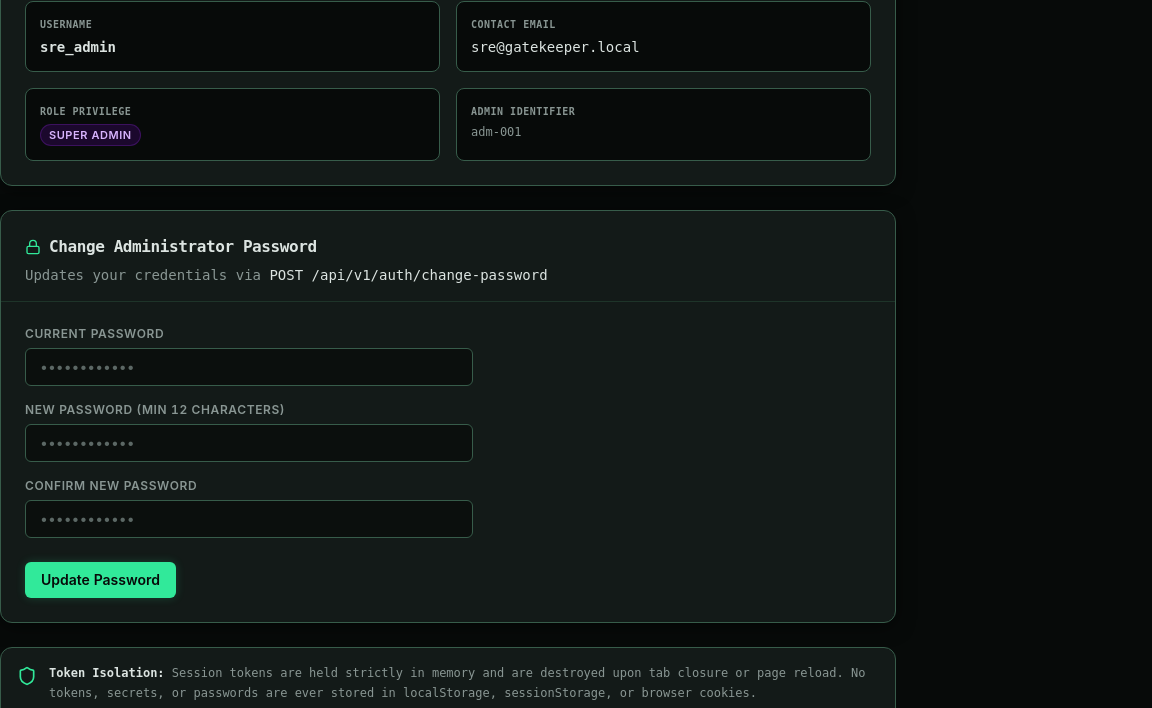
Scenario: Security Page Component › validates password length and matching confirmation
(page scrolled)
// Empty fields
Click the button "Update Password".
click(100, 580)  # box [25,562,176,598]
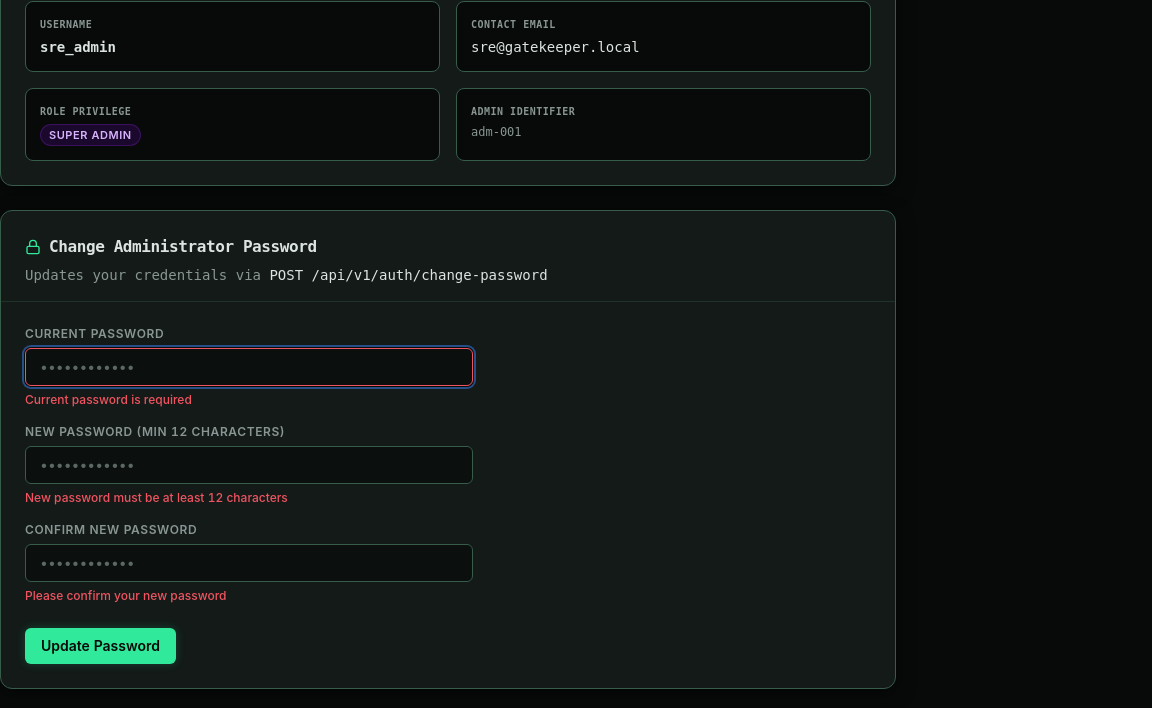
Now the text "Current password is required" is shown, box [25,392,192,407]
Type "OldPassword123!" into the password field labelled "Current Password".
click(249, 367); type("OldPassword123!")  # box [25,348,473,386]
Type "short" into the password field labelled "New Password (min 12 characters)".
click(249, 465); type("short")  # box [25,446,473,484]
Type "short" into the password field labelled "Confirm New Password".
click(249, 563); type("short")  # box [25,544,473,582]
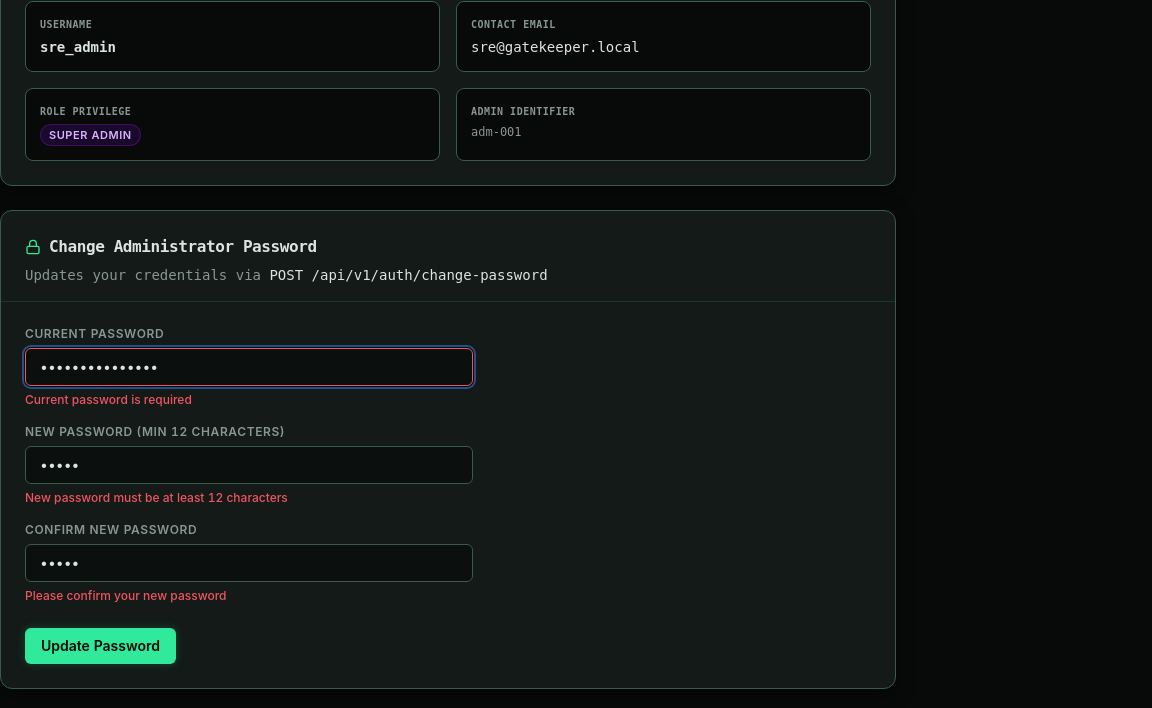
Click the button "Update Password".
click(100, 646)  # box [25,628,176,664]
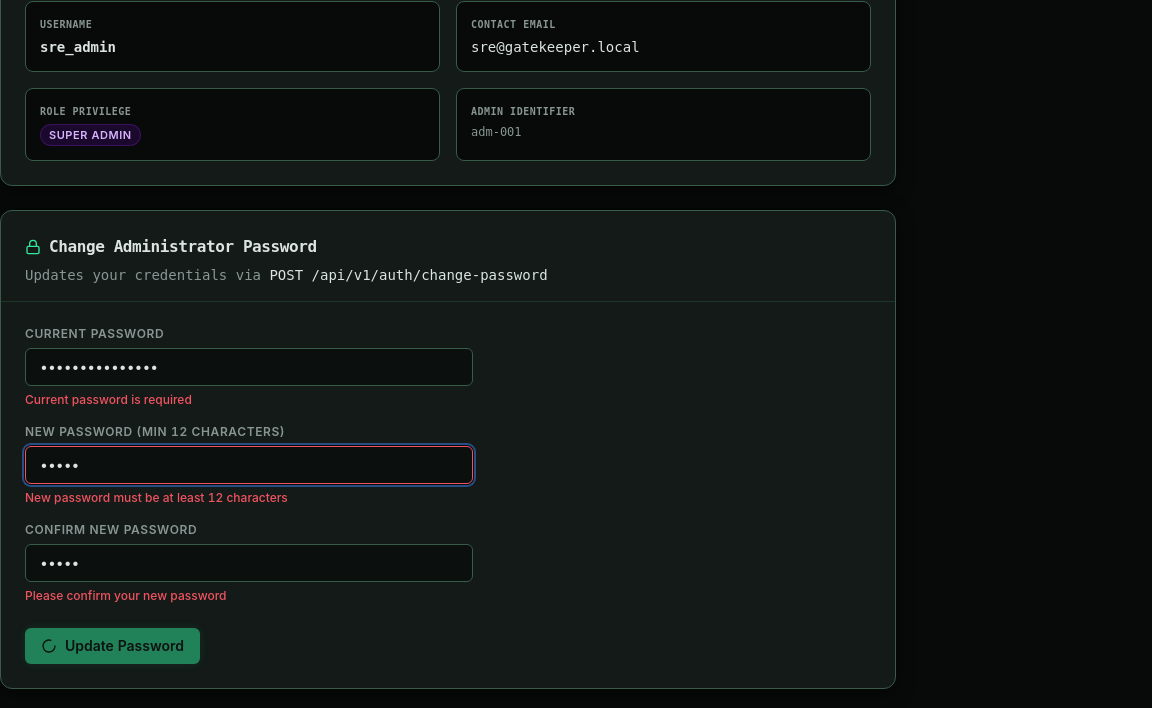
Now the text "New password must be at least 12 characters" is shown, box [25,490,288,505]
// Password mismatch
Type "ValidPassword123!" into the password field labelled "New Password (min 12 characters)".
click(249, 465); type("ValidPassword123!")  # box [25,446,473,484]
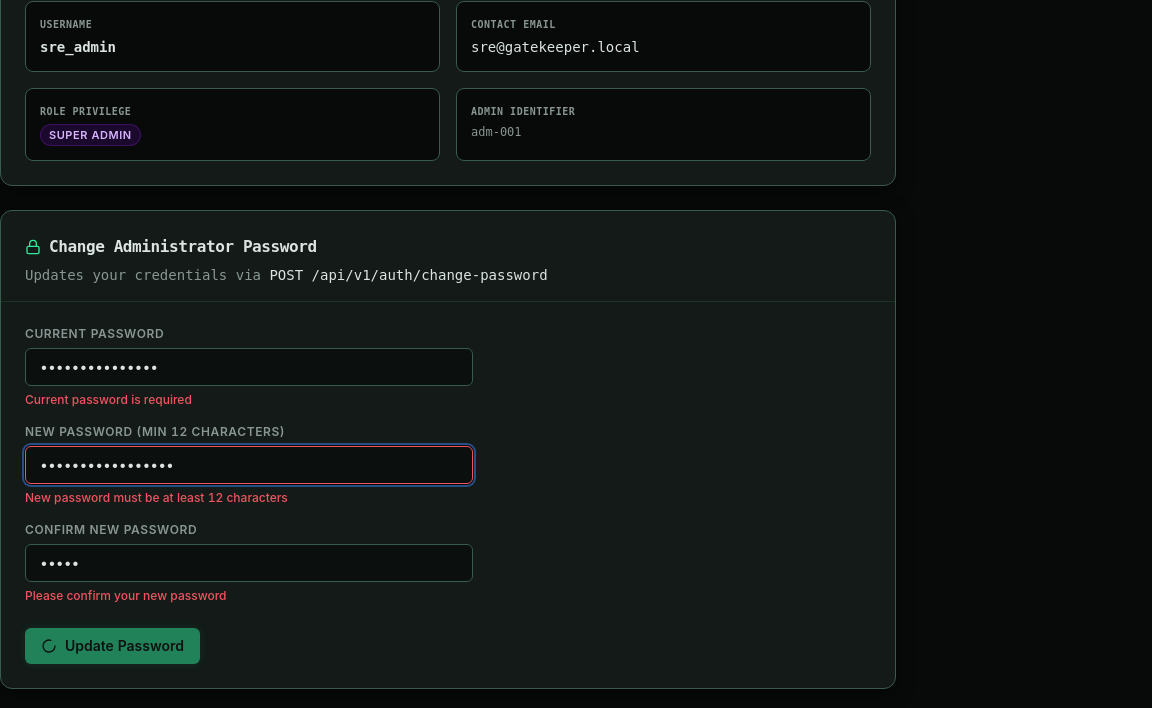
Type "DifferentPassword123!" into the password field labelled "Confirm New Password".
click(249, 563); type("DifferentPassword123!")  # box [25,544,473,582]
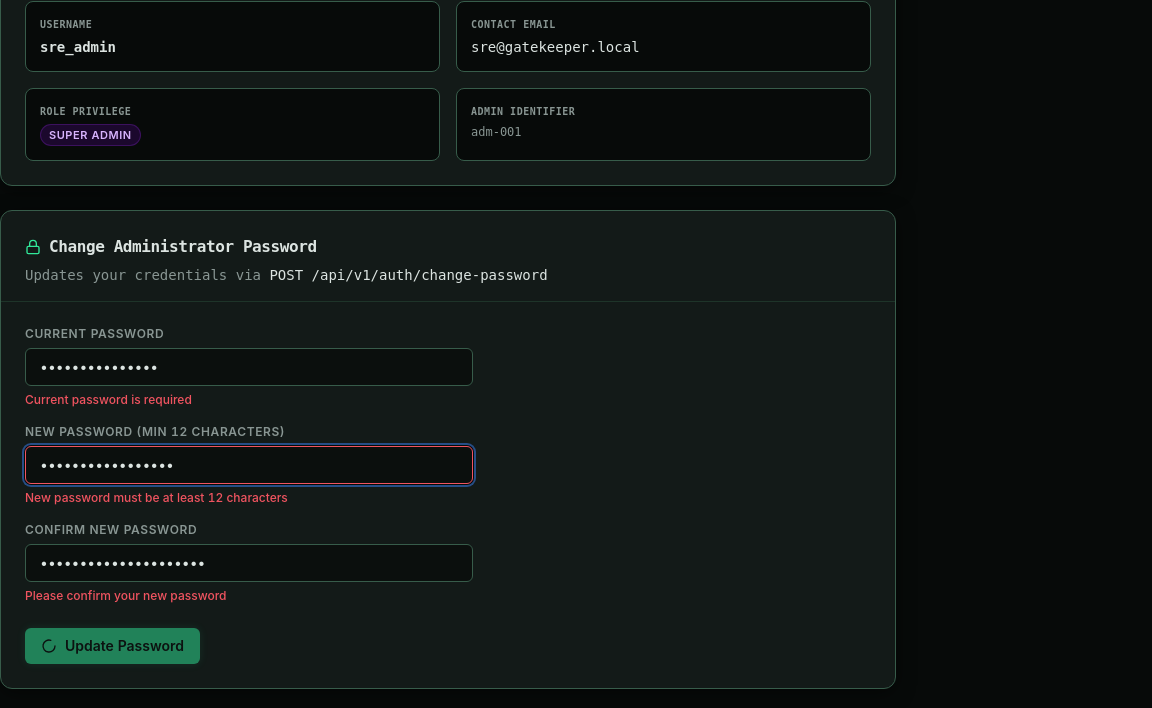
Click the button "Update Password".
click(112, 646)  # box [25,628,200,664]
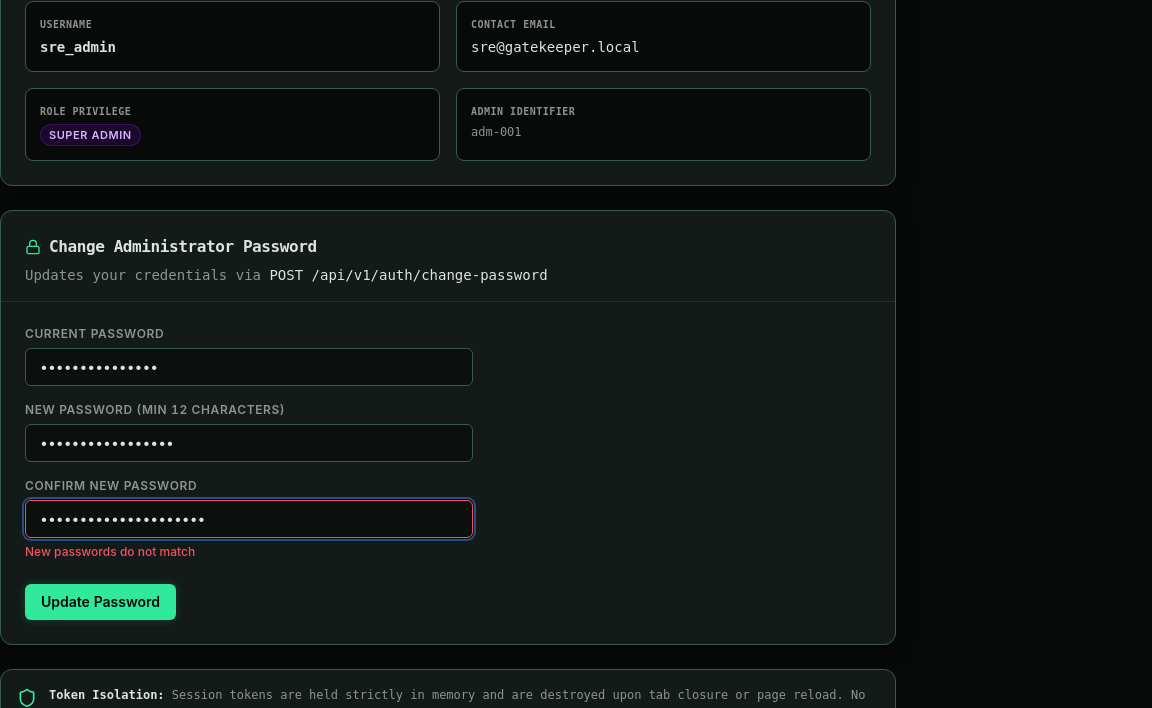
Now the text "New passwords do not match" is shown, box [25,544,195,559]
